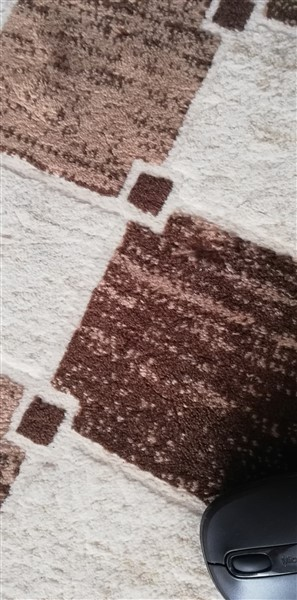mouse: (195, 478, 297, 598)
